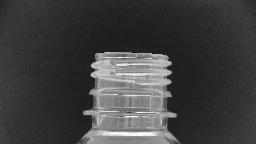No Cap: (78, 46, 182, 122)
